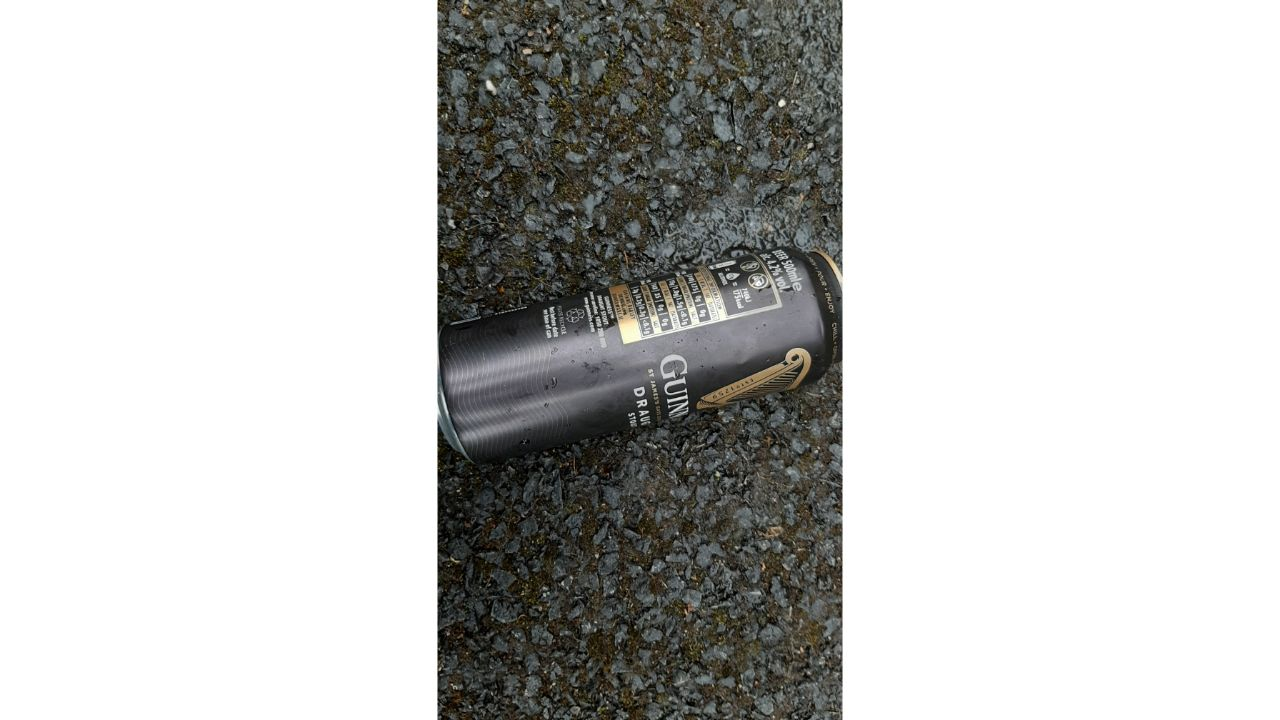Can: (439, 242, 842, 470)
